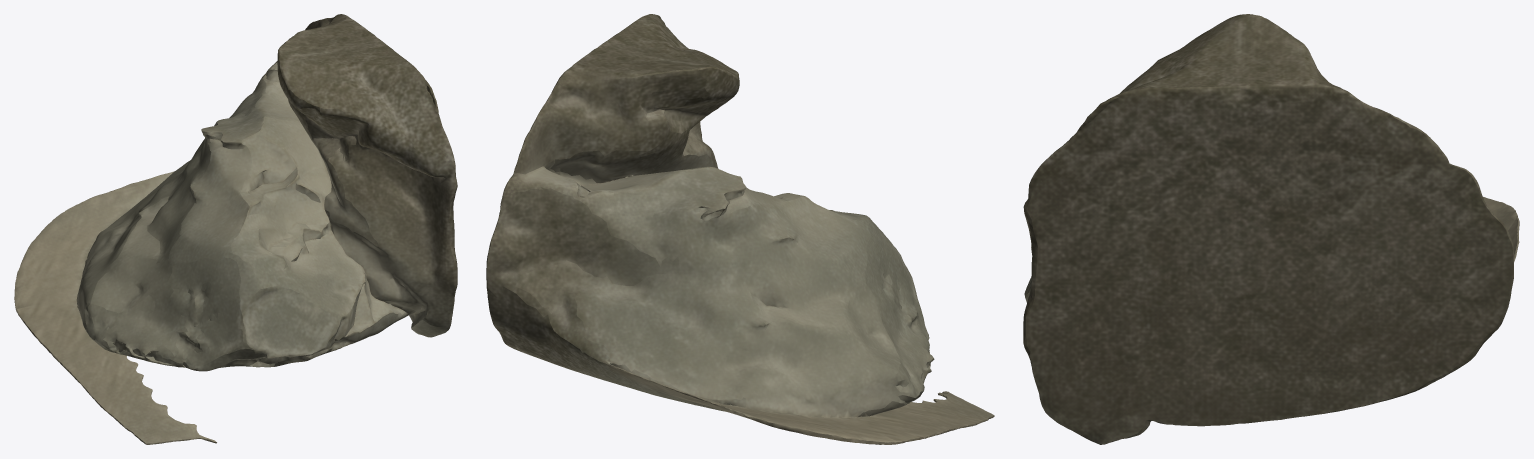
3 views of the same model, side by side, from view 1: azimuth 30°, elevation 25°; view 2: azimuth 150°, elevation 25°; view 3: azimuth 270°, elevation 25° (orthographic). The views are drawn at different scales.
Parts seen in each view (by area): view 1: world; view 2: world; view 3: world.
Boxes of the visible parts, left/top/right/bottom form: world: left=14, top=14, right=457, bottom=444; world: left=486, top=14, right=994, bottom=444; world: left=1023, top=14, right=1519, bottom=444.
Size of the model in its own units: 0.35 by 0.3251 by 0.3495.
Materials: 1 (1 with a texture image).
